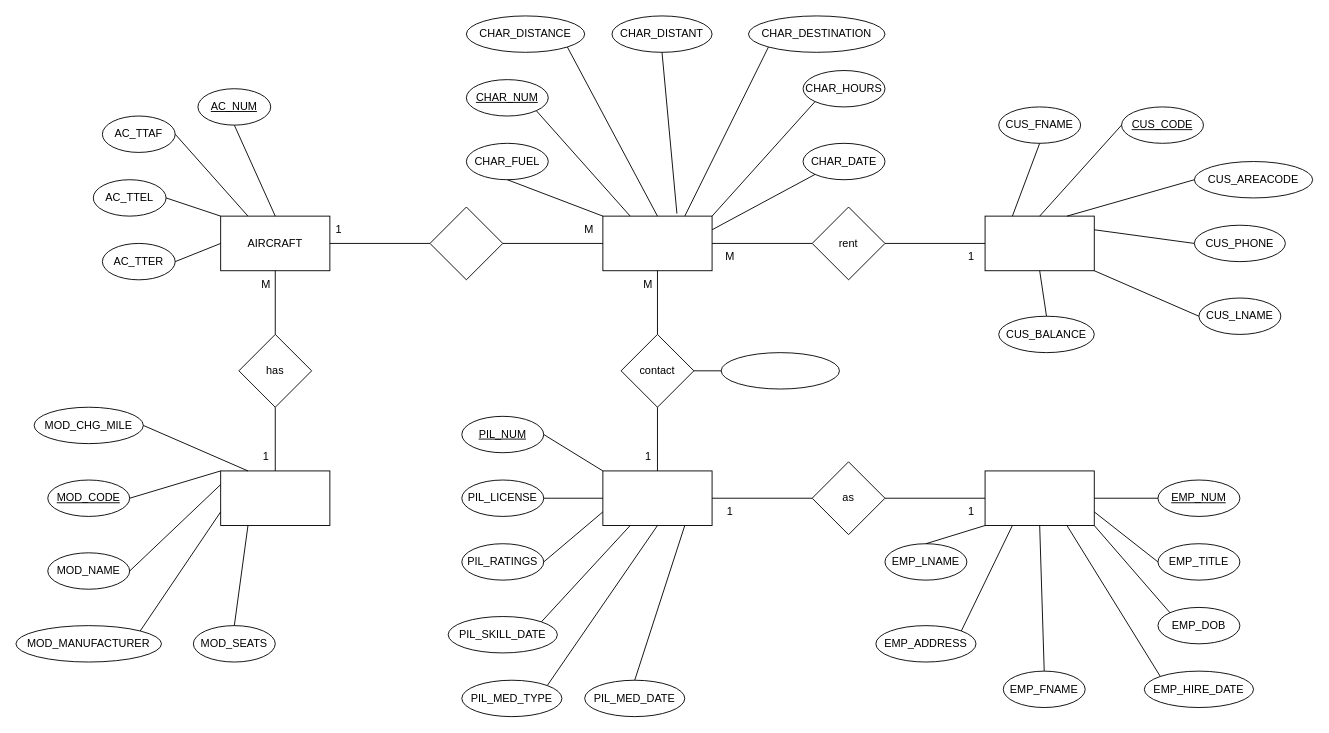
Image size: 1329x733. Some labels were removed from this diagram. Each missing label, with the box of its shape:
CHAPTER: (602, 215, 712, 271)
COPIL_PIL_NUM: (720, 352, 839, 389)
CUSTOMER: (984, 215, 1094, 271)
EMPLOYEE: (984, 470, 1094, 526)
MODEL: (220, 470, 330, 526)
PILOT: (602, 470, 712, 526)
use: (429, 206, 503, 280)
